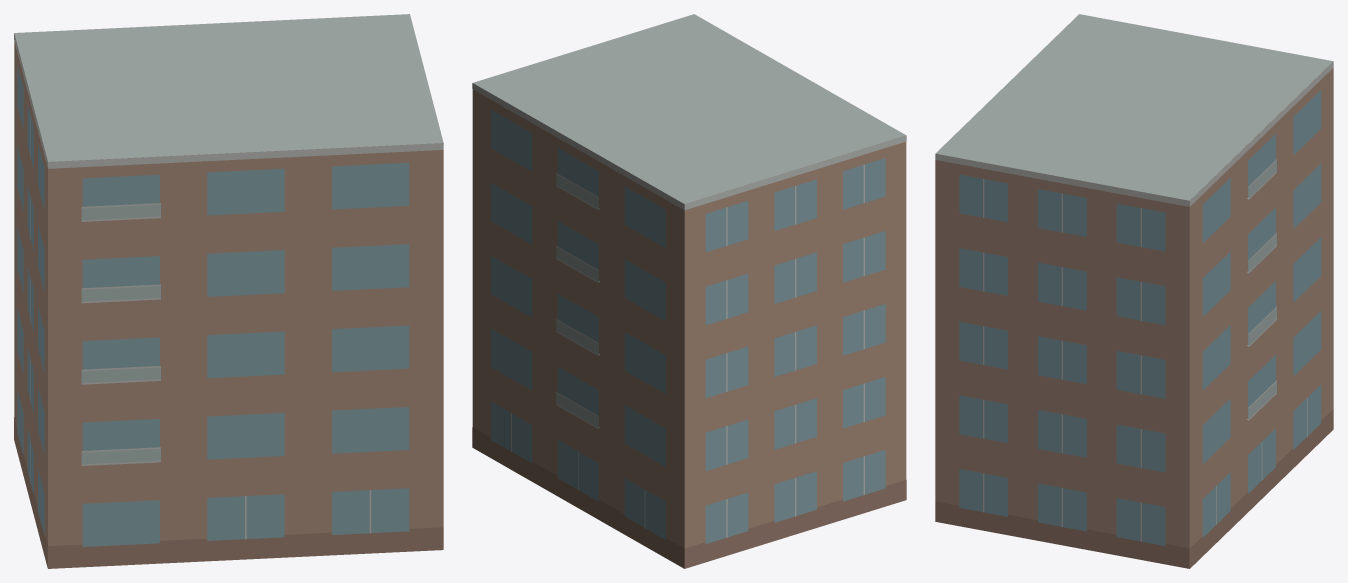
File: survey-upis-32947216.glb
3 renders of one model, left to right at view 1: azimuth 30°, elevation 25°; view 2: azimuth 150°, elevation 25°; view 3: azimuth 270°, elevation 25°, orthographic. The views are drawn at different scales.
Visible parts, largest first — view 1: survey-upis-32947216.tmp; view 2: survey-upis-32947216.tmp; view 3: survey-upis-32947216.tmp.
Boxes of the visible parts, box(x1,y1,x2,y2) form: survey-upis-32947216.tmp: box(14, 14, 443, 568); survey-upis-32947216.tmp: box(472, 14, 906, 568); survey-upis-32947216.tmp: box(935, 14, 1333, 568).
Size of the model in its own units: 15.68 by 14.4 by 14.13.
